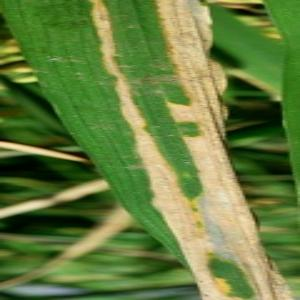2 BacterialBlight: (62, 1, 229, 258)
